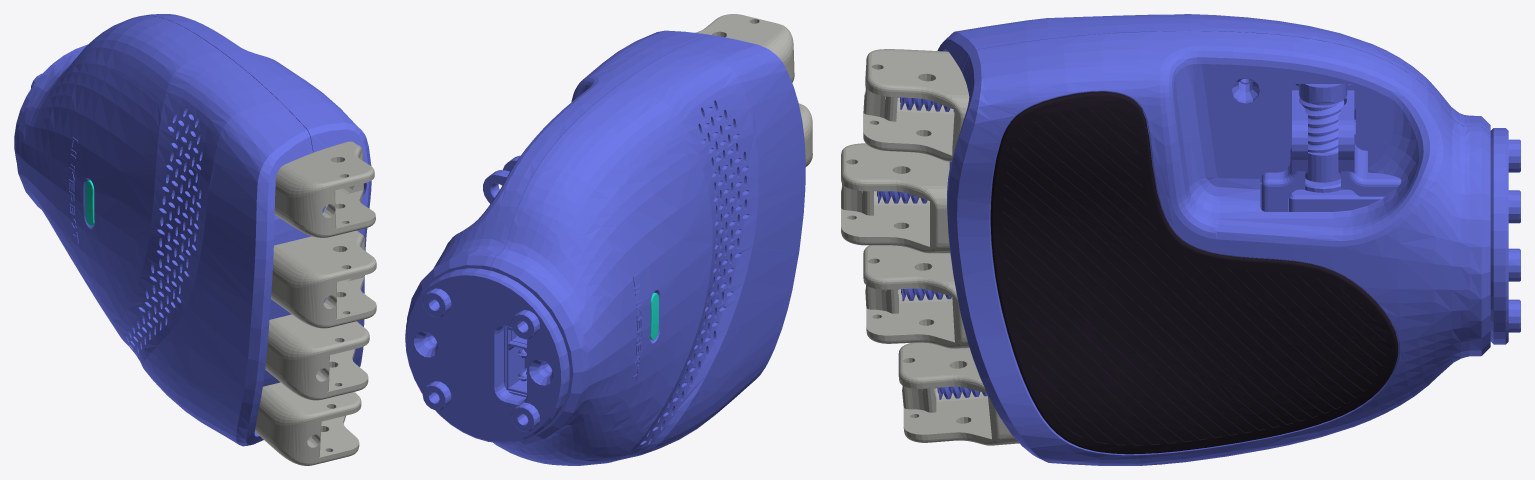
File: rh_hand_base_link_vis.glb
3 renders of one model, left to right at view 1: azimuth 30°, elevation 25°; view 2: azimuth 150°, elevation 25°; view 3: azimuth 270°, elevation 25°, orthographic. The views are drawn at different scales.
Visible parts, largest first — view 1: world; view 2: world; view 3: world.
Boxes of the visible parts, x1,y1,x2,y2 form: world: (14, 14, 376, 465); world: (405, 14, 812, 465); world: (841, 14, 1520, 465).
Bounding box in the file's own units: 0.04 × 0.0767 × 0.1127.
Materials: 1 (1 with a texture image).
